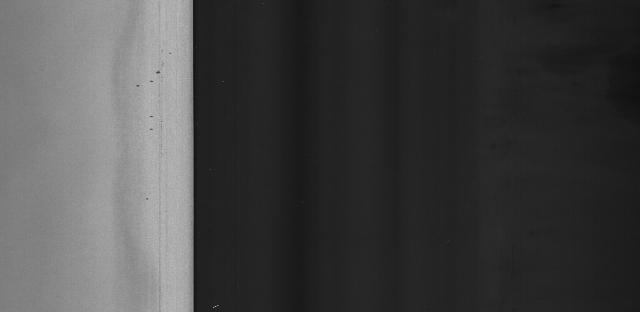inclusion: (133, 77, 155, 90), (150, 62, 169, 76), (146, 110, 156, 134)
